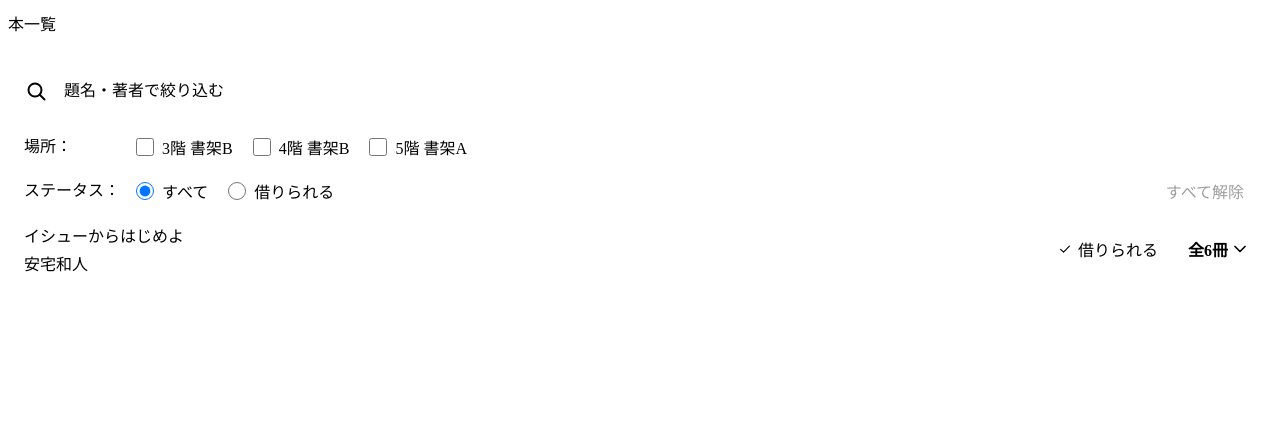
Scenario: BookListPage の置き場所ごとの行 › SB-52: 同じ置き場所の本は1行にまとめ、「借りられる」と「残り2冊」を出し、棚にある本へリンクする
Click the button "イシューからはじめよ 安宅和人 借りられる 全6冊" at [104, 236], box left=8, top=211, right=1272, bottom=287
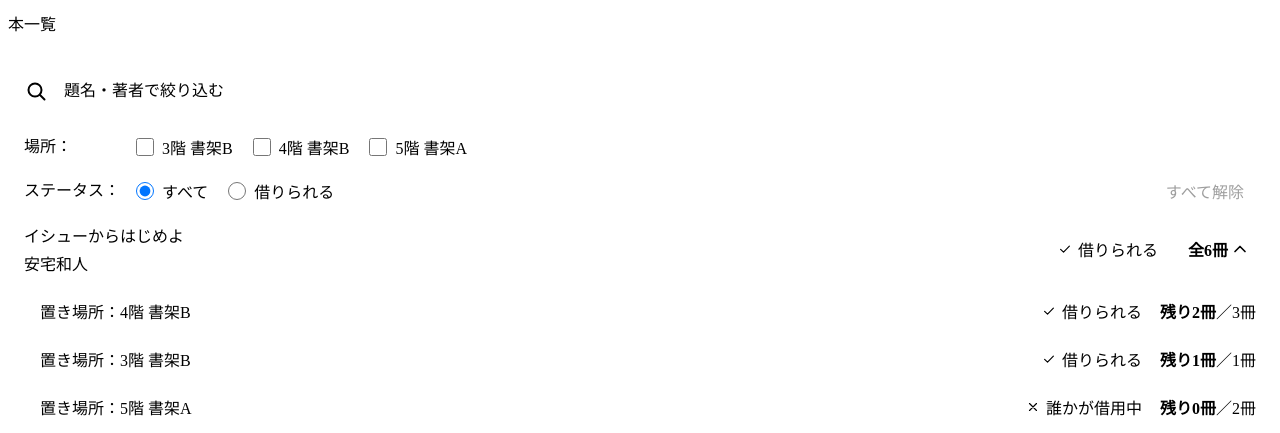
Result: the 2nd text "借りられる" is shown at left=1042, top=304, right=1142, bottom=321
Result: the text "残り2冊" is shown at left=1160, top=304, right=1216, bottom=321
